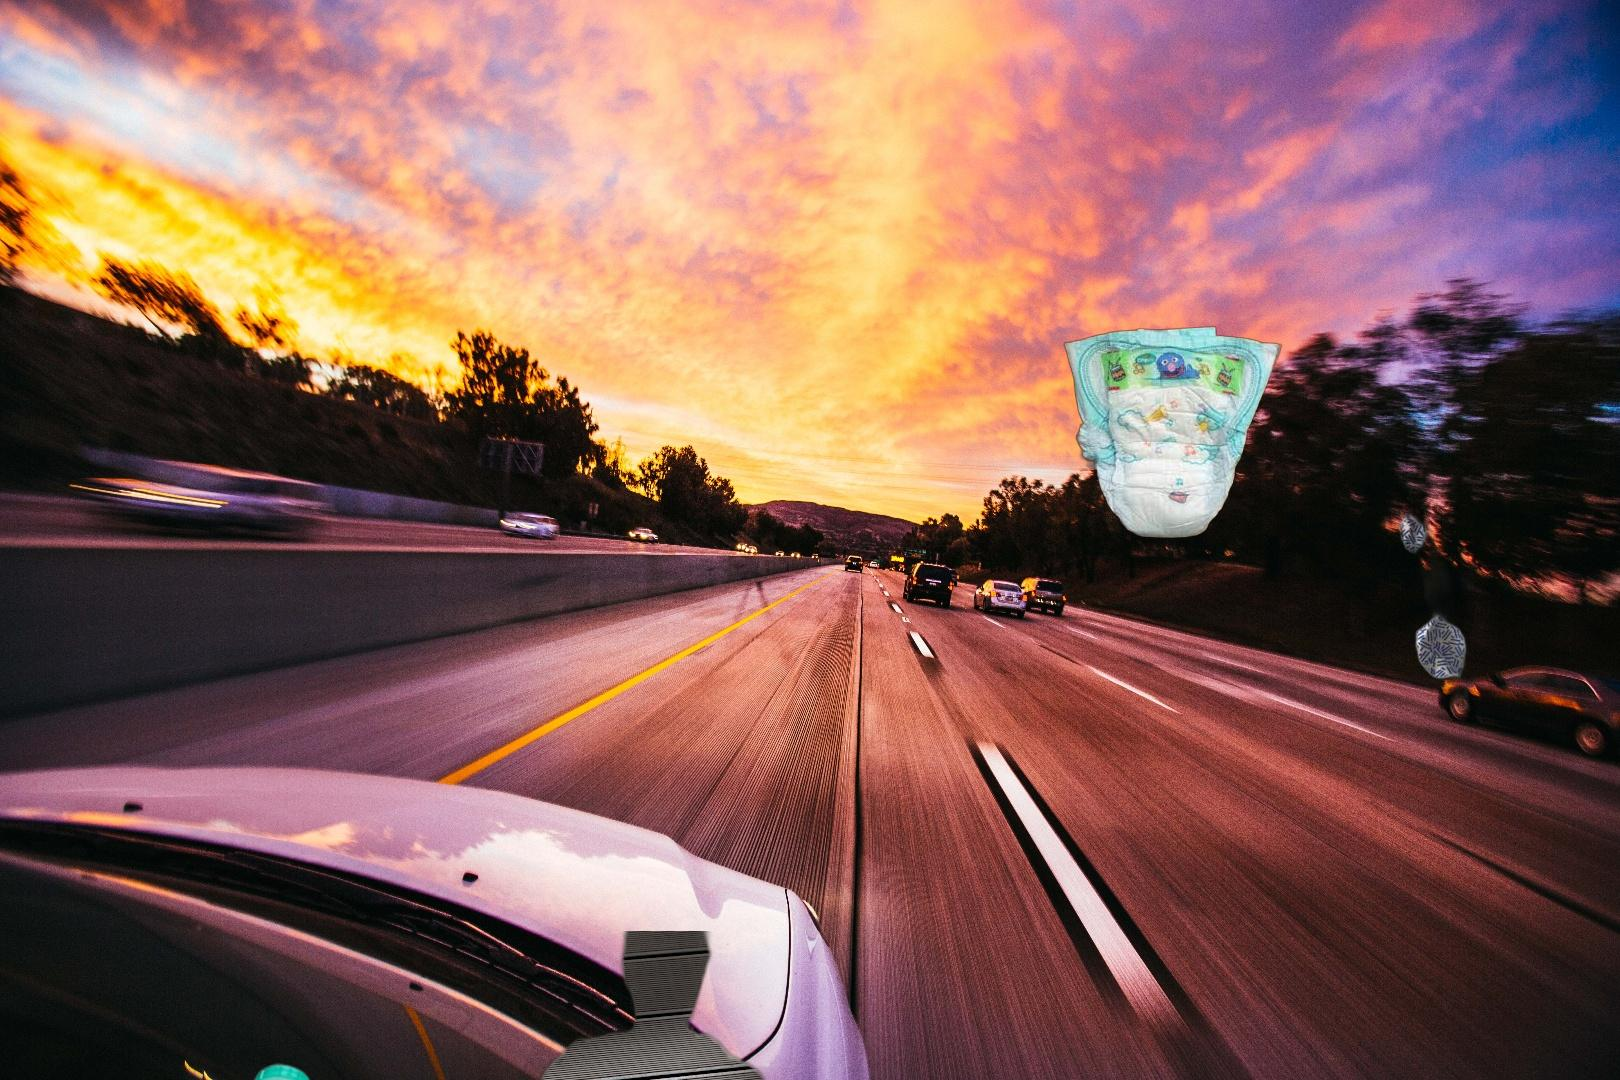paper: (1395, 482, 1475, 734)
plastic-bottles: (511, 931, 799, 1080), (158, 1056, 336, 1080)
trash: (1062, 324, 1284, 541)
